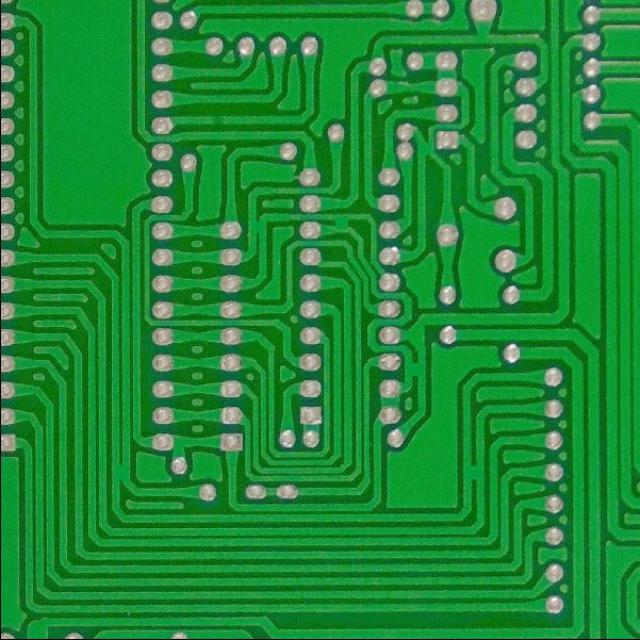Short_Circuit: (456, 458, 489, 487), (326, 208, 357, 238), (400, 356, 430, 382), (107, 459, 134, 487), (242, 214, 272, 239)
